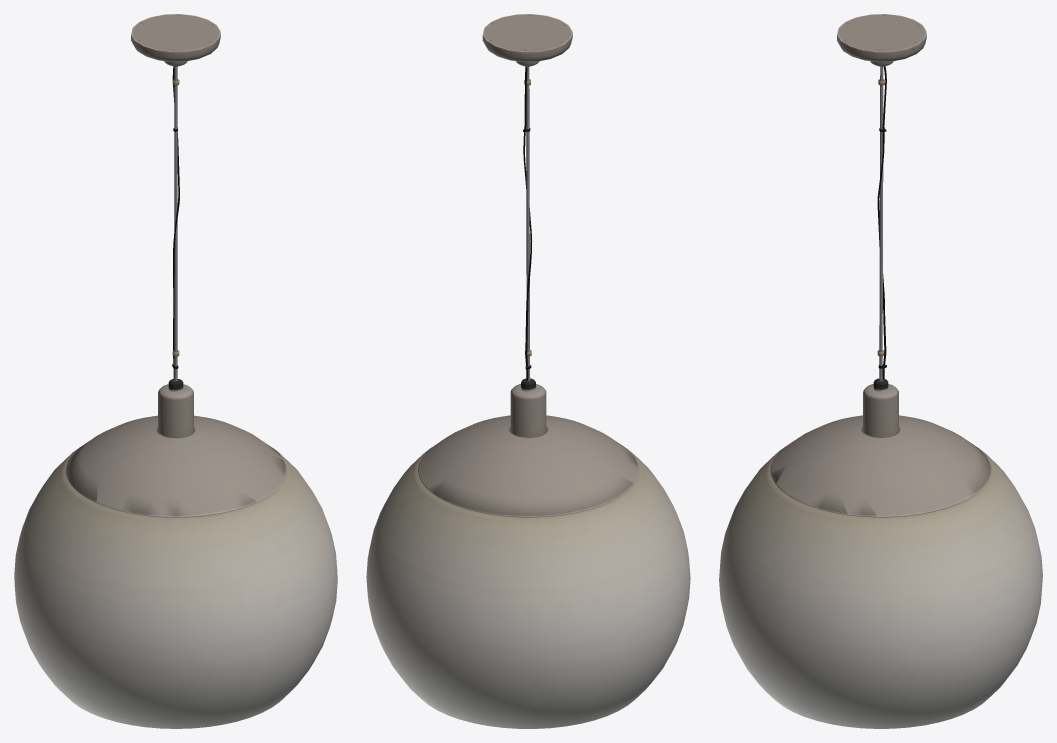
Rendered from modern_ceiling_lamp_01.glb.
3 views of the same model, side by side, from view 1: azimuth 30°, elevation 25°; view 2: azimuth 150°, elevation 25°; view 3: azimuth 270°, elevation 25° (orthographic).
Parts seen in each view (by area): view 1: modern_ceiling_lamp_01; view 2: modern_ceiling_lamp_01; view 3: modern_ceiling_lamp_01.
Part boxes in pixels (x1=…): modern_ceiling_lamp_01: x1=14, y1=14, x2=337, y2=728; modern_ceiling_lamp_01: x1=366, y1=14, x2=690, y2=728; modern_ceiling_lamp_01: x1=719, y1=14, x2=1042, y2=728.
Size of the model in its own units: 0.4317 by 0.9516 by 0.4317.
2 materials, 2 textured.
